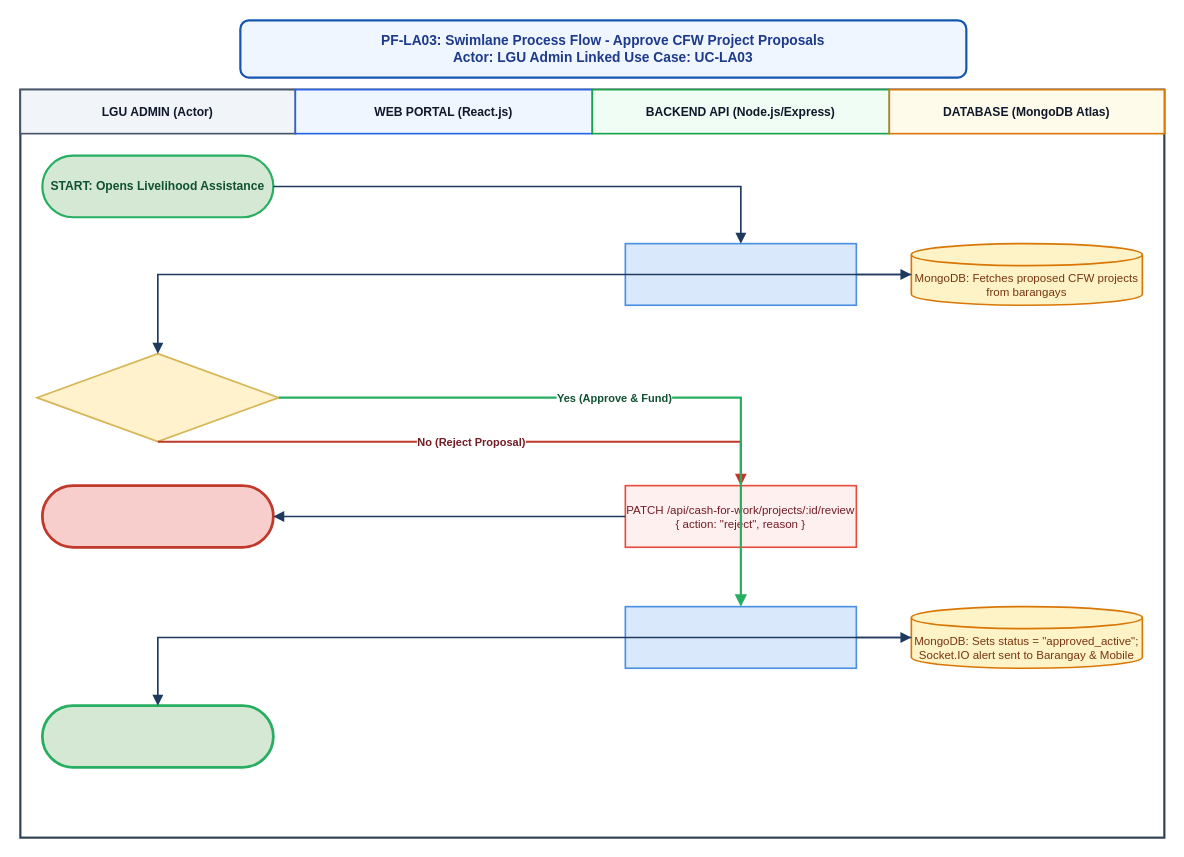
Some shapes in this 1184 by 857 pixel diagram are drawn without their labels. The centre of each missing label's shape, as x and y in pixels:
END: Project funded & active for citizens: point 157,736
END: Proposal rejected; Barangay notified: point 157,516
GET /api/cash-for-work/projects?status=pending_lgu_approval: point 740,274
LGU Admin reviews proposal: Authorize budget & approve?: point 157,397
PATCH /api/cash-for-work/projects/:id/review { action: "approve" }: point 740,637
